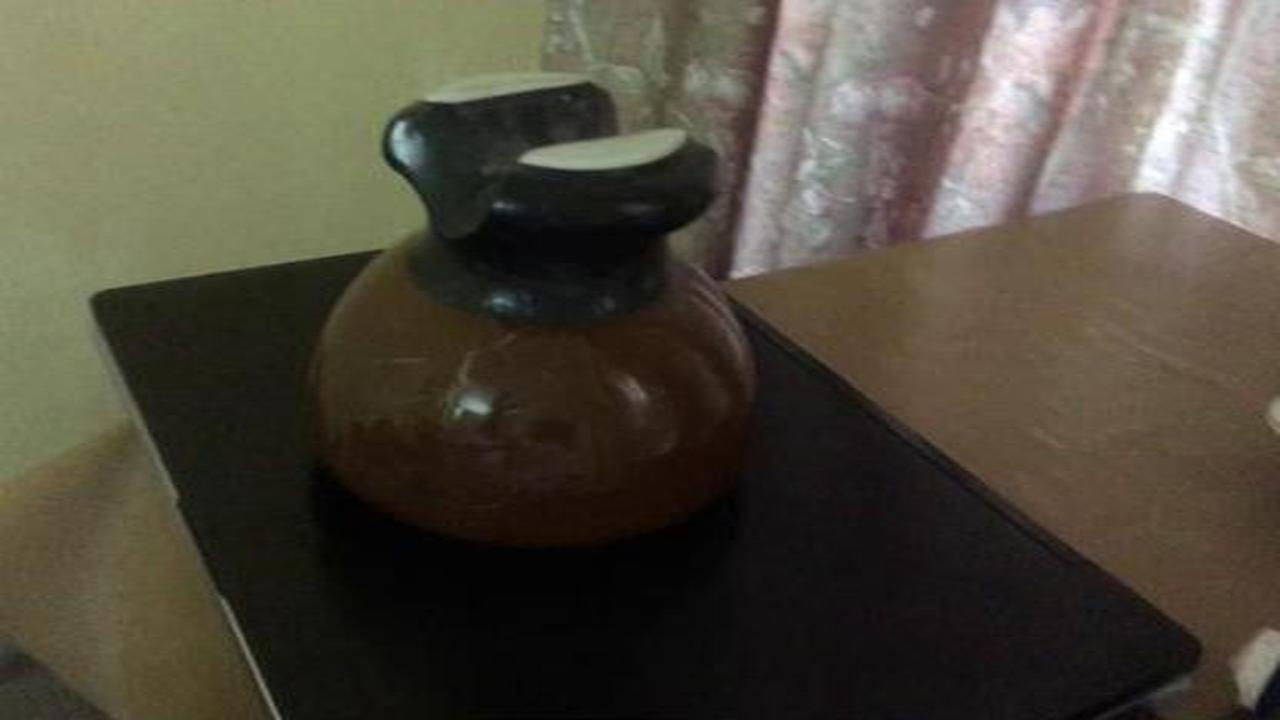insulator_pin: (286, 59, 785, 577)
